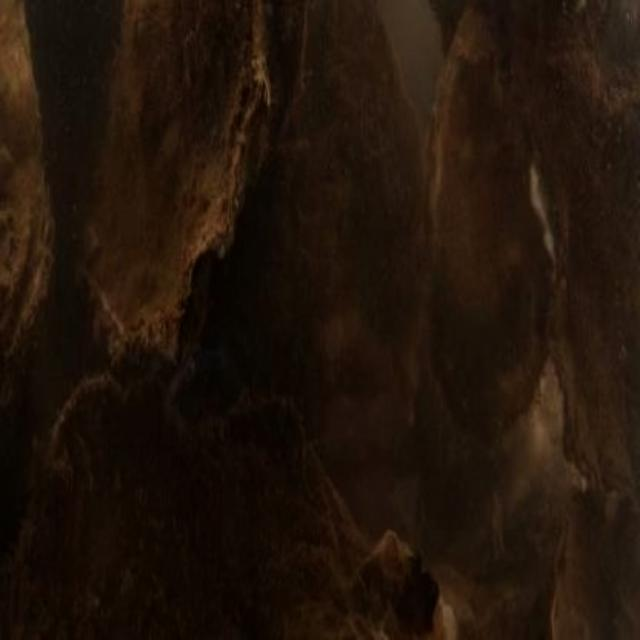Oyster-Closed: (0, 365, 448, 638), (429, 0, 638, 508), (208, 0, 429, 398), (429, 6, 556, 446), (0, 0, 54, 429), (550, 485, 638, 638)
Oyster-Open: (31, 0, 273, 378)
